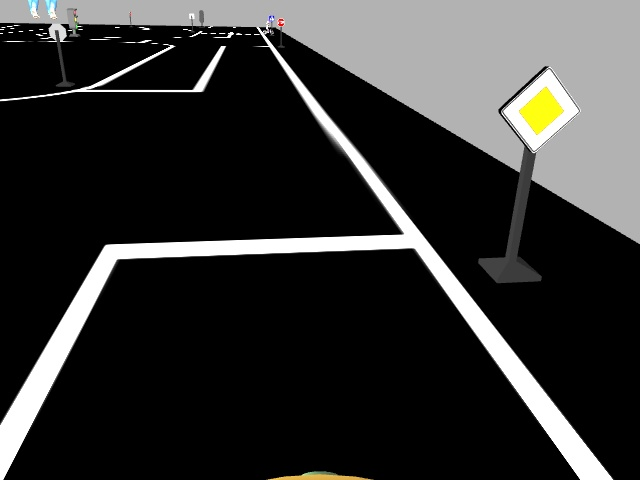Priority: (500, 63, 582, 153)
